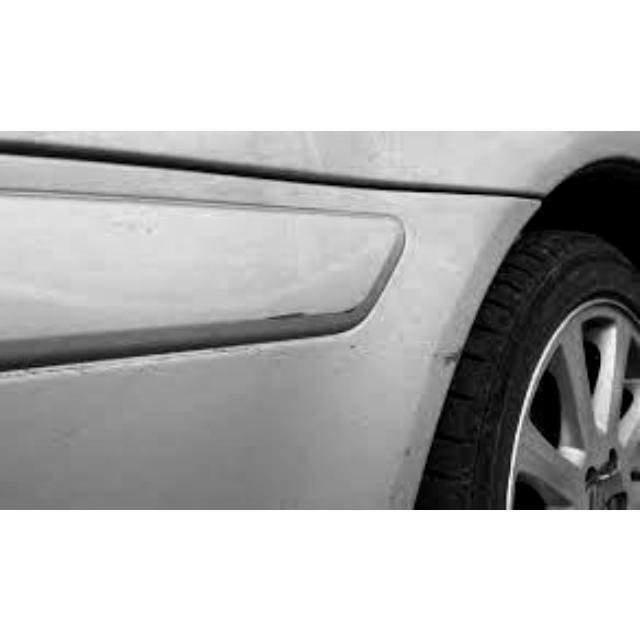front-bumper-dent: (0, 160, 536, 508)
